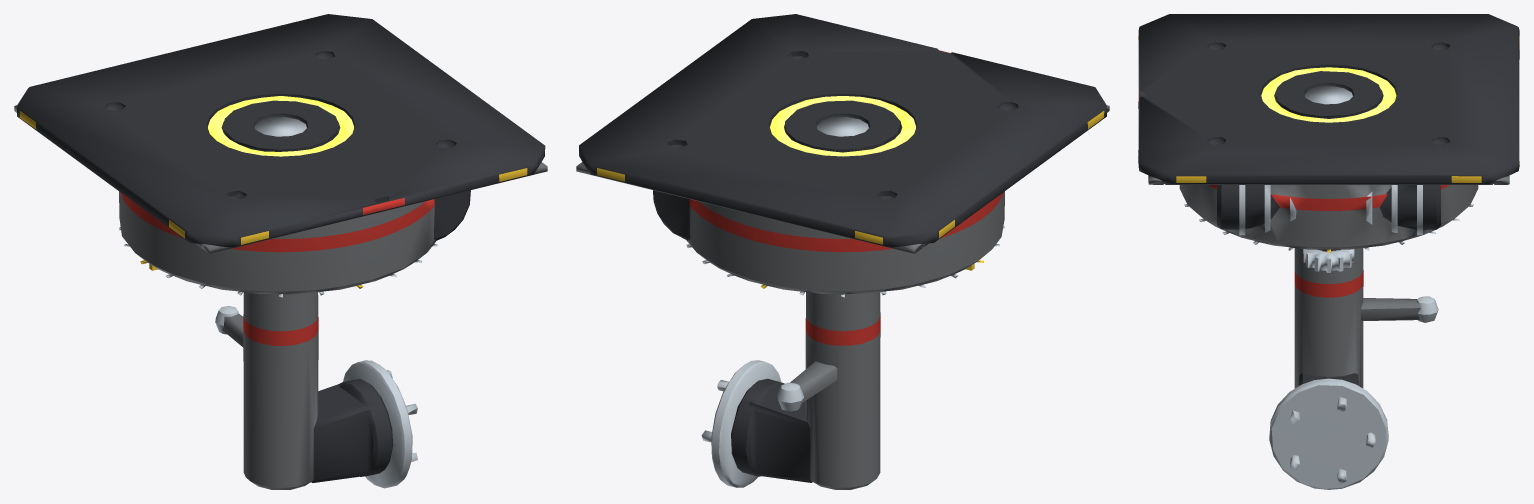
The model's file is R4M_IndependentSteering_LOD1.fbx.
The picture shows the model from 3 angles, left to right: view 1: azimuth 30°, elevation 25°; view 2: azimuth 150°, elevation 25°; view 3: azimuth 270°, elevation 25°; orthographic projection. The views are drawn at different scales.
Parts seen in each view (by area): view 1: R4M_IndependentSteering_ServoDrum_LOD1, R4M_IndependentSteering_Knuckle_LOD1; view 2: R4M_IndependentSteering_ServoDrum_LOD1, R4M_IndependentSteering_Knuckle_LOD1; view 3: R4M_IndependentSteering_ServoDrum_LOD1, R4M_IndependentSteering_Knuckle_LOD1, R4M_IndependentSteering_Pinion_LOD1.
Boxes of the visible parts, x1,y1,x2,y2 form: R4M_IndependentSteering_ServoDrum_LOD1: (14,14,547,297); R4M_IndependentSteering_Knuckle_LOD1: (149,264,417,489); R4M_IndependentSteering_ServoDrum_LOD1: (576,14,1109,297); R4M_IndependentSteering_Knuckle_LOD1: (701,263,974,489); R4M_IndependentSteering_ServoDrum_LOD1: (1138,14,1519,252); R4M_IndependentSteering_Knuckle_LOD1: (1269,248,1438,489); R4M_IndependentSteering_Pinion_LOD1: (1303,249,1354,272).
Bounding box in the file's own units: 0.5108 × 0.5201 × 0.5108.
